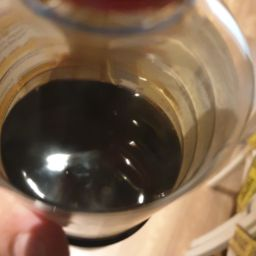Soy Sauce: (3, 62, 210, 215), (39, 85, 180, 195), (23, 95, 160, 181)
